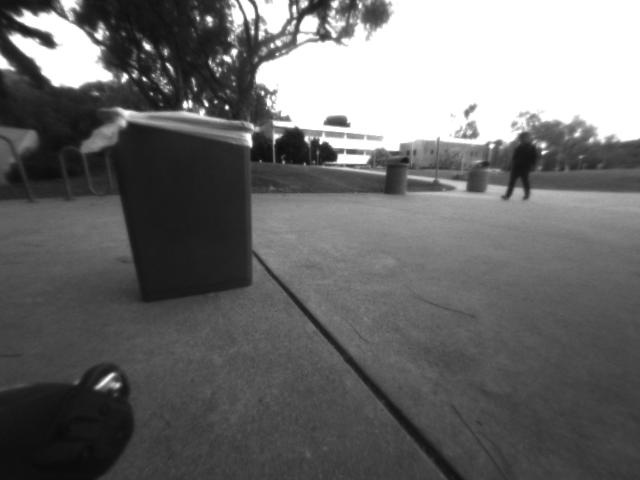trashcan: (90, 97, 270, 305)
